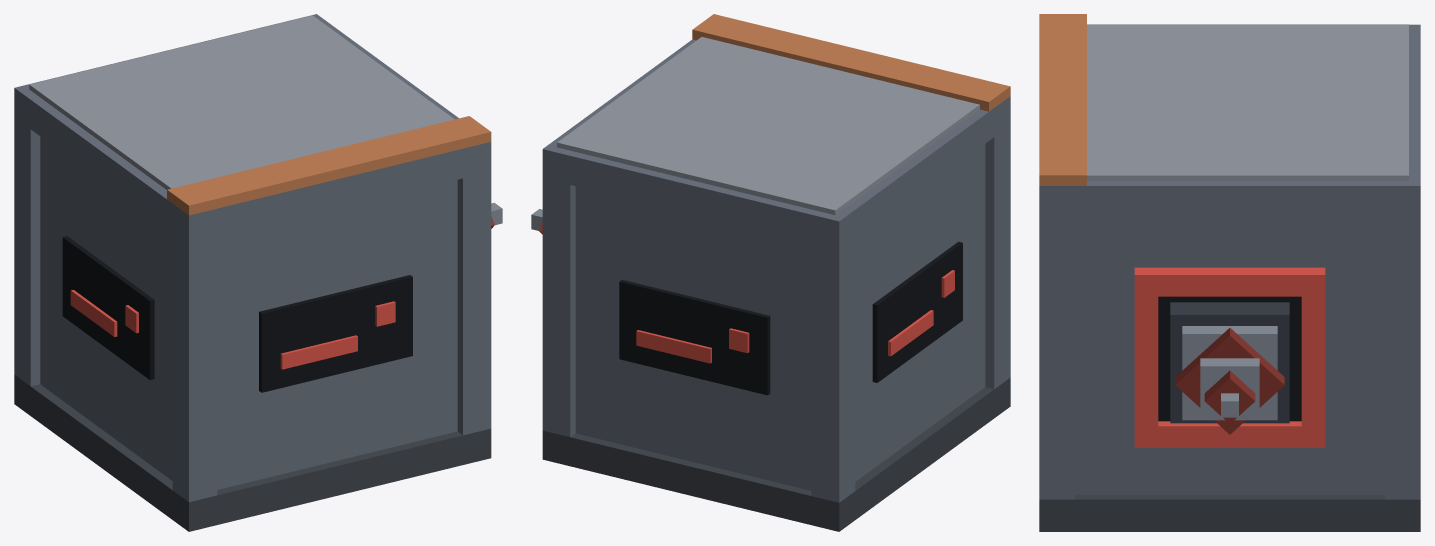
The model's file is breaker.glb.
3 renders of one model, left to right at view 1: azimuth 30°, elevation 25°; view 2: azimuth 150°, elevation 25°; view 3: azimuth 270°, elevation 25°, orthographic. The views are drawn at different scales.
Visible parts, largest first — view 1: body.016, tier.008; view 2: body.016, tier.008; view 3: body.016, drill, tier.008.
Part boxes in pixels (<box>): body.016: <box>14,14,491,531</box>; tier.008: <box>167,116,491,215</box>; body.016: <box>542,37,1010,531</box>; tier.008: <box>692,14,1010,111</box>; body.016: <box>1039,24,1420,531</box>; drill: <box>1175,326,1284,434</box>; tier.008: <box>1039,14,1086,185</box>.
Size of the model in its own units: 1.31 by 1.03 by 1.
